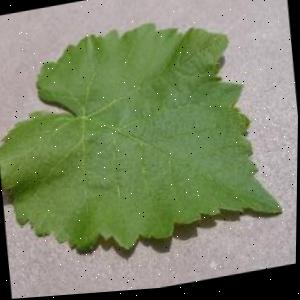Folha: (0, 1, 288, 273)
